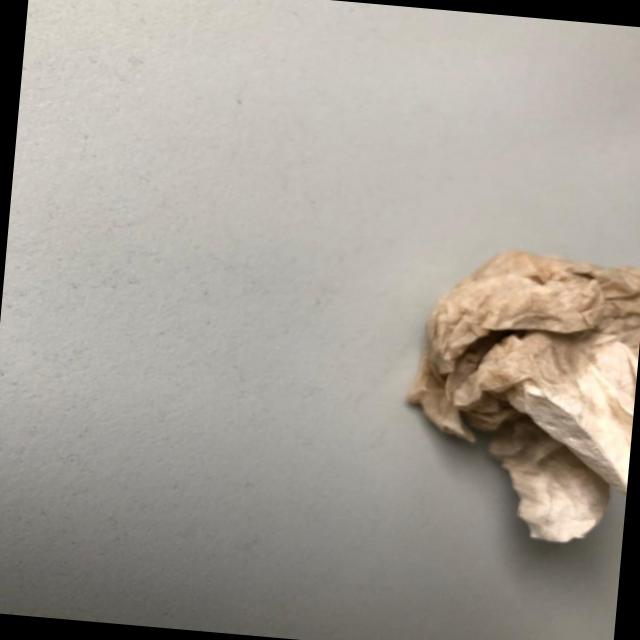organic waste: (393, 240, 640, 549)
